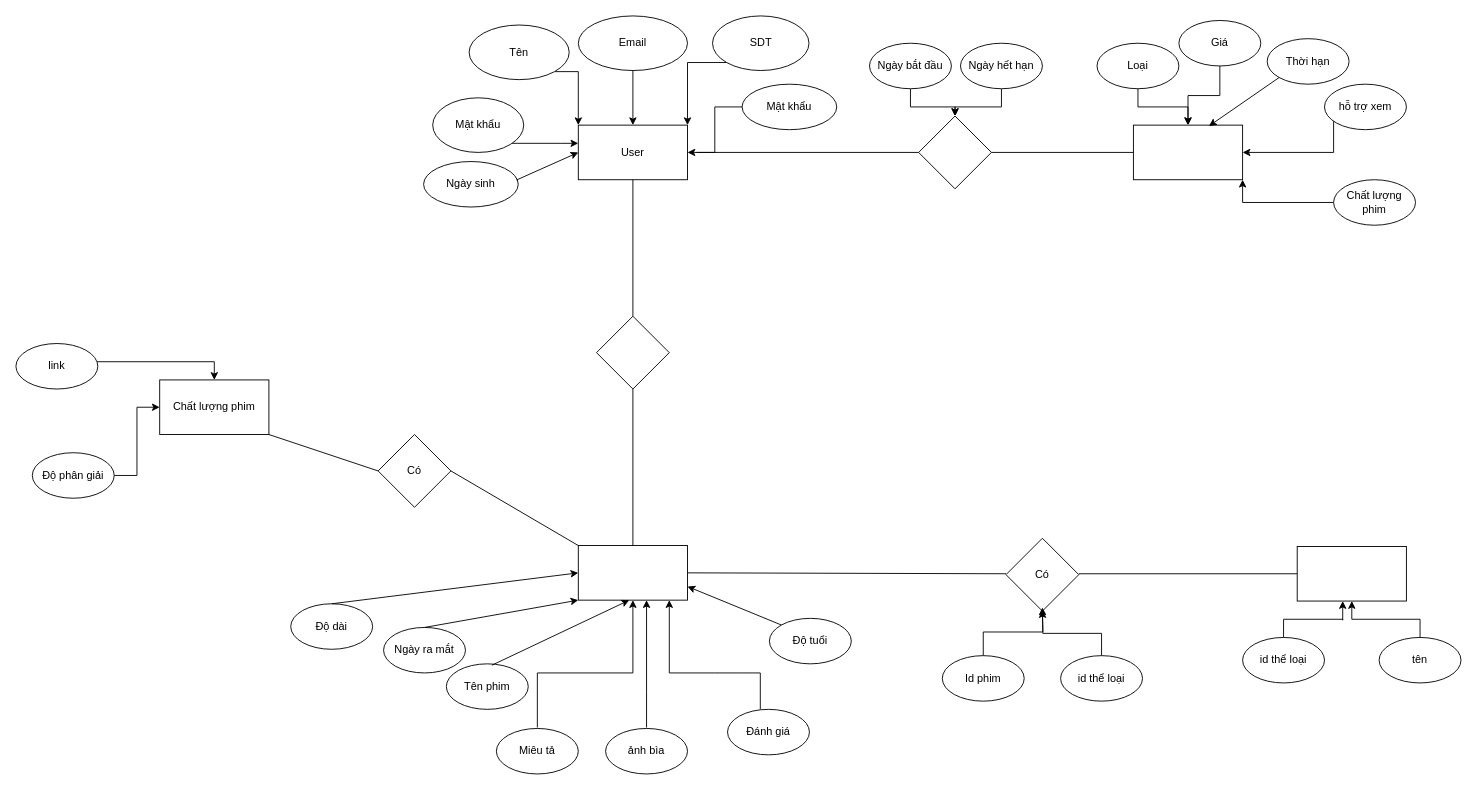
This 1477x790 diagram has some shape labels left out. The shapes that lost their labels are listed below. From the top down, each one's box as (x1, y1, x2, y2) in pixels, then its label:
(918, 115, 991, 189): Mua
(1132, 124, 1243, 180): Type_Detail
(596, 315, 669, 389): xem phim
(577, 545, 688, 600): phim
(1296, 546, 1406, 601): Thể loại
